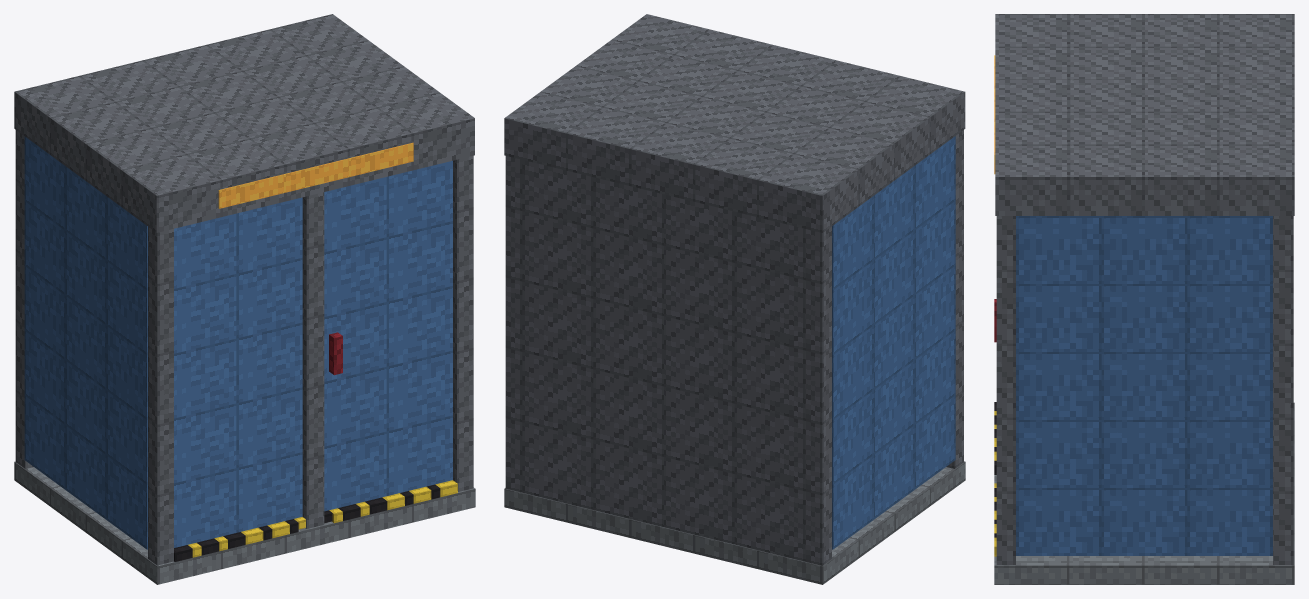
File: containmentCell.glb
The picture shows the model from 3 angles, left to right: view 1: azimuth 30°, elevation 25°; view 2: azimuth 150°, elevation 25°; view 3: azimuth 270°, elevation 25°; orthographic projection. The views are drawn at different scales.
Parts seen in each view (by area): view 1: containmentCell_0; view 2: containmentCell_0; view 3: containmentCell_0.
Part boxes in pixels (x1=…): containmentCell_0: x1=14, y1=14, x2=475, y2=584; containmentCell_0: x1=504, y1=14, x2=965, y2=584; containmentCell_0: x1=994, y1=14, x2=1294, y2=584.
Bounding box in the file's own units: 2.25 × 2.62 × 1.75.
1 material, 1 textured.
